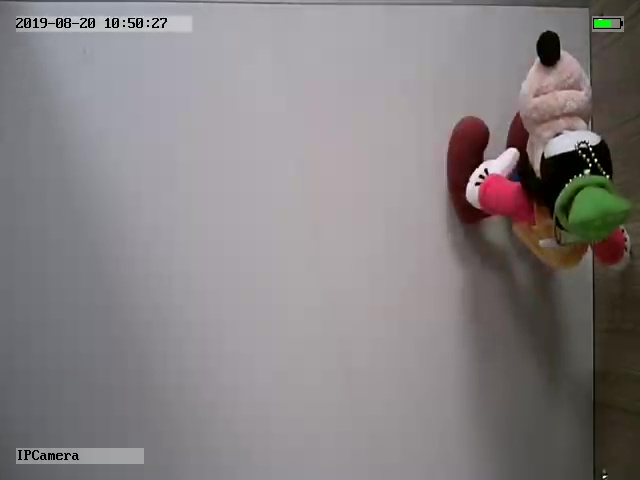goofy: (444, 30, 635, 272)
